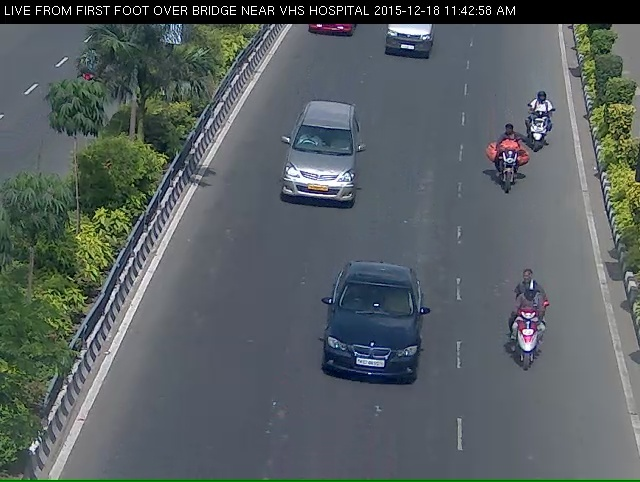Car: (308, 291, 437, 424), (254, 104, 374, 229)
Person: (507, 281, 553, 381), (521, 94, 564, 158), (503, 139, 523, 205)
